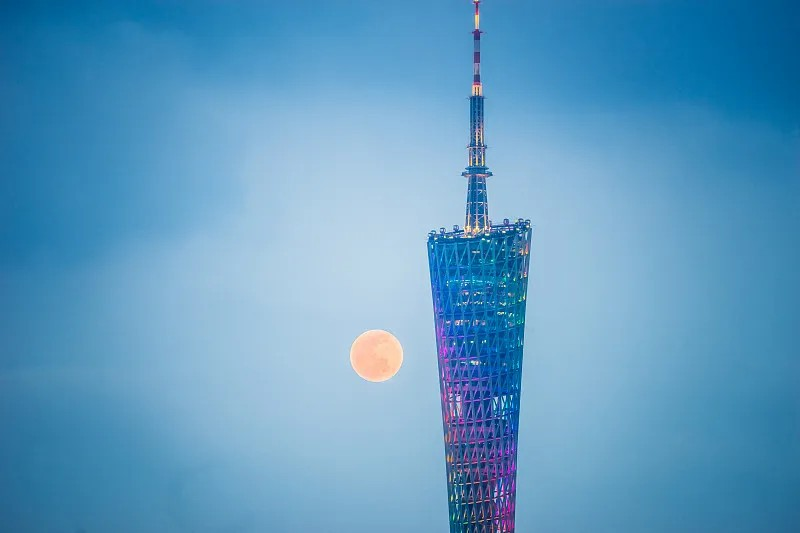Canton: (426, 1, 535, 533)
